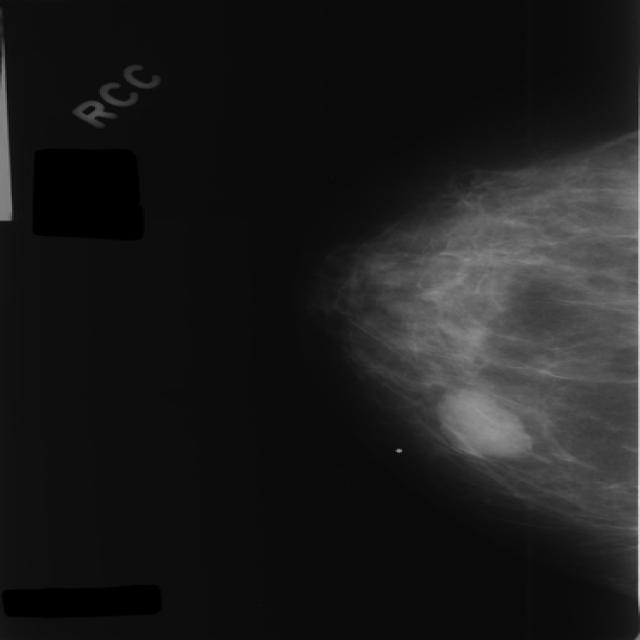tumour: (433, 387, 531, 459)
